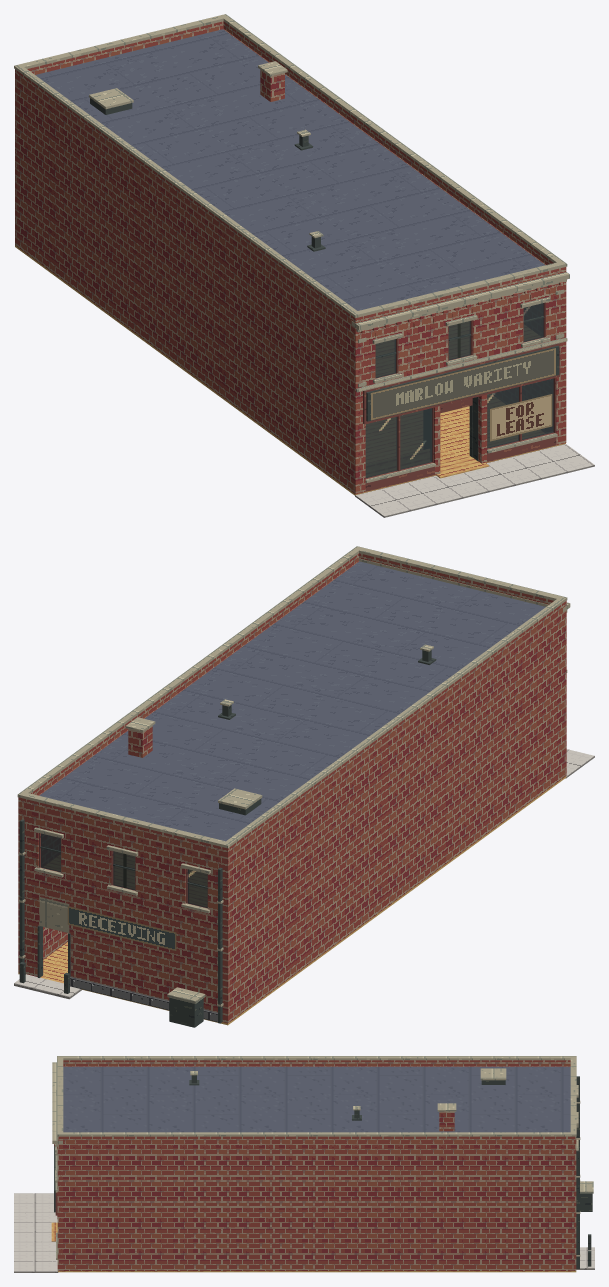
File: marlow-closed.glb
3 views of the same model, one above another, from view 1: azimuth 30°, elevation 25°; view 2: azimuth 150°, elevation 25°; view 3: azimuth 270°, elevation 25° (orthographic). The views are drawn at different scales.
Parts seen in each view (by area): view 1: building_shell, roof_and_parapet, Shared street sidewalk, sign_name, sign_for_lease; view 2: building_shell, roof_and_parapet, sign_receiving, lot, Rear receiving pad; view 3: building_shell, roof_and_parapet, Shared street sidewalk, lot.
Part boxes in pixels (left/top/right/bottom): building_shell: left=15, top=29, right=567, bottom=495; roof_and_parapet: left=14, top=14, right=569, bottom=333; Shared street sidewalk: left=355, top=444, right=594, bottom=517; sign_name: left=371, top=348, right=555, bottom=420; sign_for_lease: left=490, top=394, right=552, bottom=441; building_shell: left=18, top=561, right=567, bottom=1025; roof_and_parapet: left=17, top=546, right=570, bottom=858; sign_receiving: left=67, top=906, right=176, bottom=950; lot: left=19, top=962, right=205, bottom=1027; Rear receiving pad: left=14, top=974, right=81, bottom=999; building_shell: left=51, top=1066, right=580, bottom=1272; roof_and_parapet: left=52, top=1056, right=576, bottom=1146; Shared street sidewalk: left=14, top=1193, right=58, bottom=1272; lot: left=580, top=1181, right=593, bottom=1266.
Size of what is drawn, in the model's own units: 10.05 by 9.06 by 31.36.
Materials: 10 (10 with a texture image).
